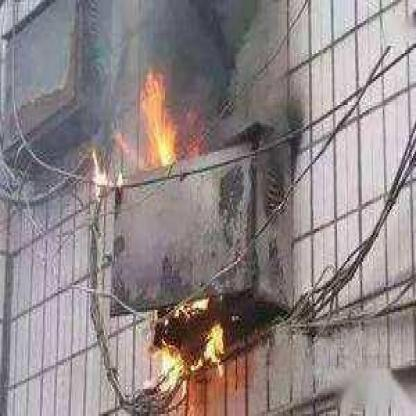fire: (141, 296, 226, 395), (118, 67, 178, 163)
smoke: (150, 0, 270, 80)
